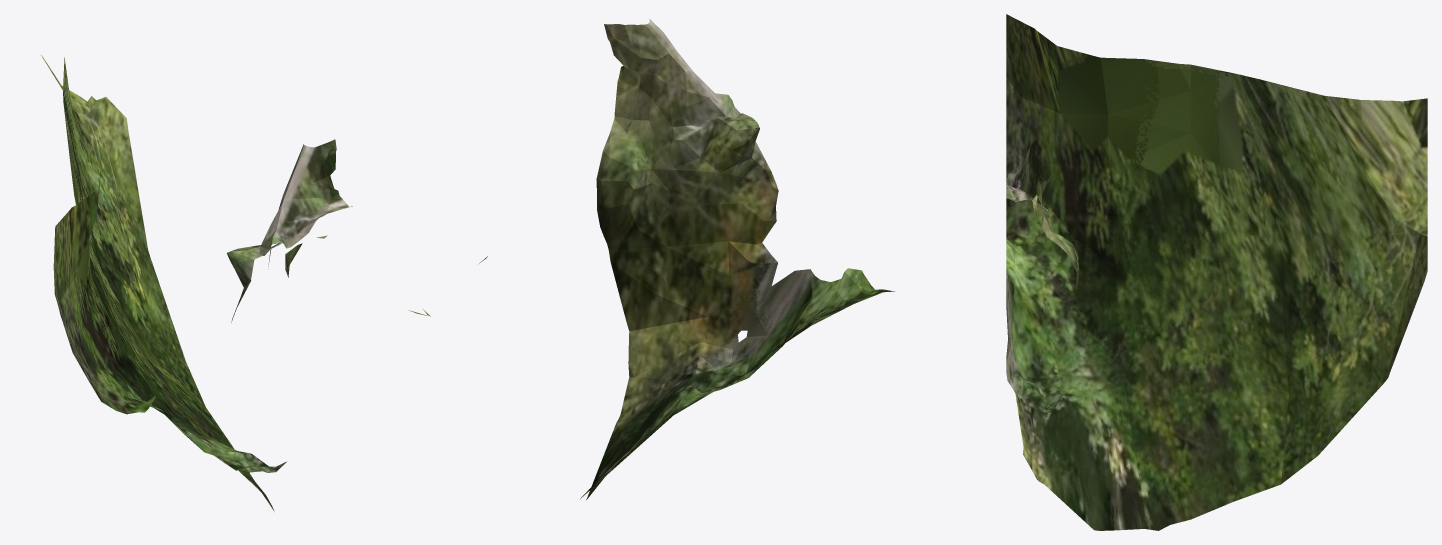
3 views of the same model, side by side, from view 1: azimuth 30°, elevation 25°; view 2: azimuth 150°, elevation 25°; view 3: azimuth 270°, elevation 25° (orthographic). The views are drawn at different scales.
Size of the model in its own units: 4.5 by 5.9 by 5.9.
3 materials, 3 textured.
